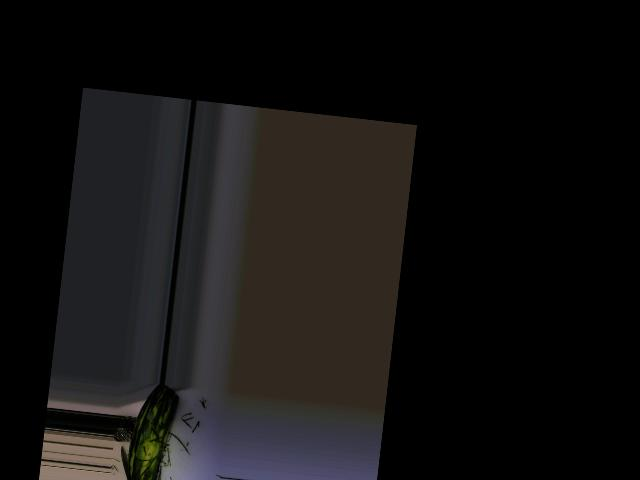cucumber: (123, 382, 180, 480)
